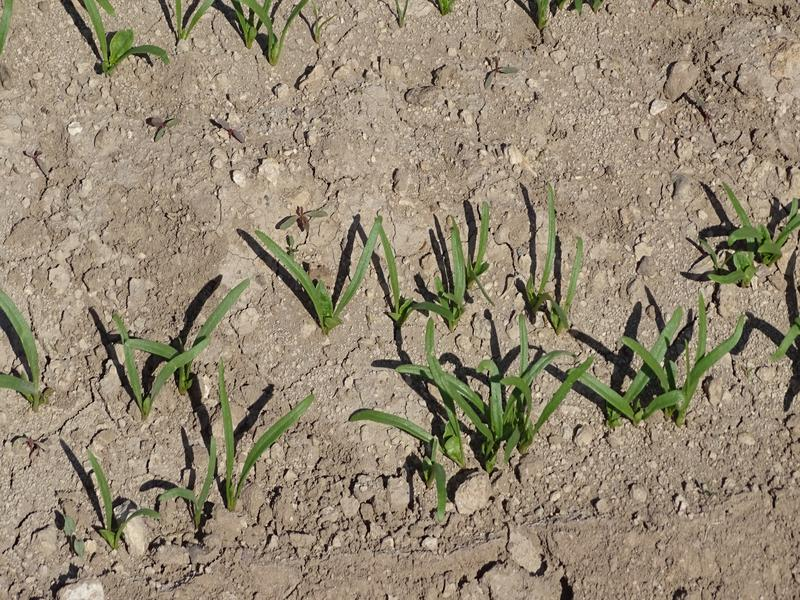Espinaca: (257, 181, 588, 321), (354, 325, 574, 484), (81, 1, 311, 80), (586, 324, 735, 428), (105, 285, 248, 385), (208, 377, 312, 508), (82, 451, 205, 558), (712, 178, 794, 285), (1, 293, 49, 409)
